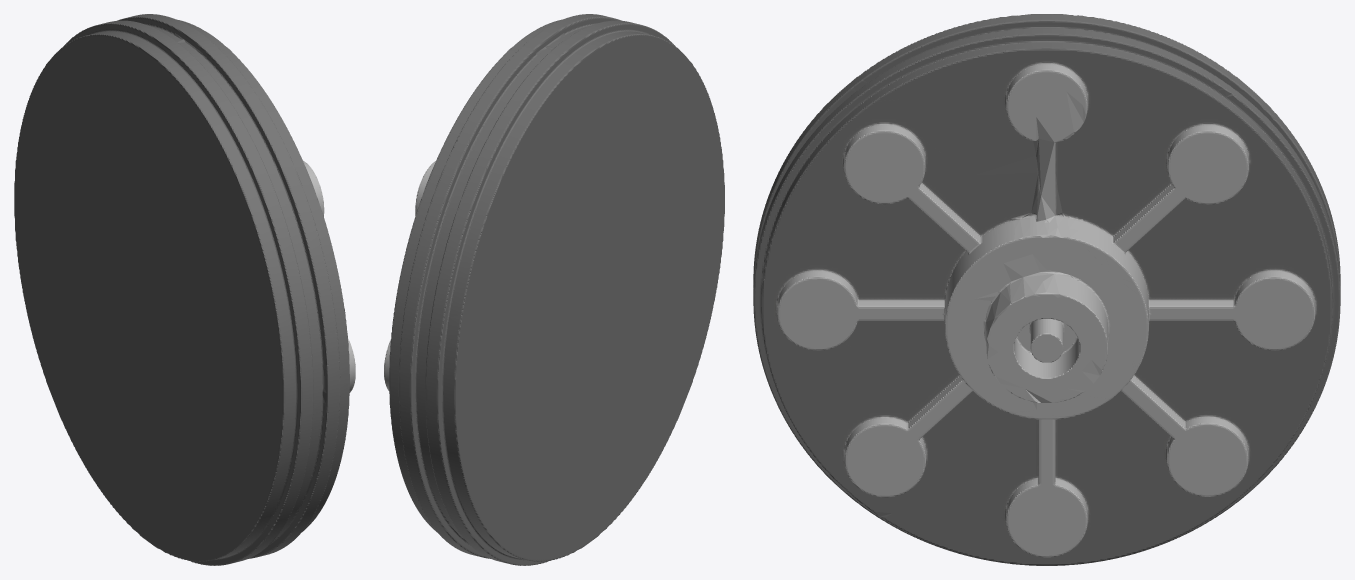
Rendered from PipeCover6.fbx.
3 renders of one model, left to right at view 1: azimuth 30°, elevation 25°; view 2: azimuth 150°, elevation 25°; view 3: azimuth 270°, elevation 25°, orthographic. The views are drawn at different scales.
Visible parts, largest first — view 1: PipeCover6; view 2: PipeCover6; view 3: PipeCover6.
Boxes of the visible parts, x1,y1,x2,y2 form: PipeCover6: [14, 14, 355, 565]; PipeCover6: [384, 14, 724, 565]; PipeCover6: [753, 14, 1340, 565].
Bounding box in the file's own units: 62.58 × 205 × 205.
